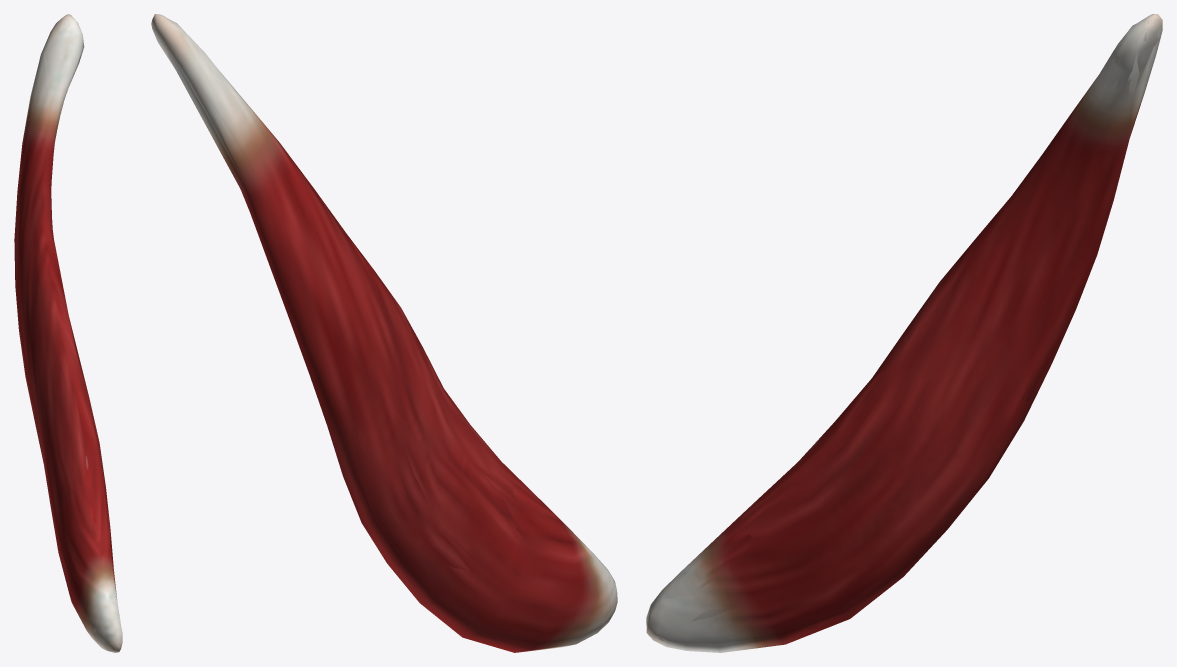
File: R Adductor.fbx
3 views of the same model, side by side, from view 1: azimuth 30°, elevation 25°; view 2: azimuth 150°, elevation 25°; view 3: azimuth 270°, elevation 25° (orthographic). The views are drawn at different scales.
Visible parts, largest first — view 1: R Adductor, R Adductor low, R Adductor high; view 2: R Adductor, R Adductor low, R Adductor high; view 3: R Adductor, R Adductor low, R Adductor high.
Part boxes in pixels (left/top/right/bottom): R Adductor: left=14, top=14, right=122, bottom=652; R Adductor low: left=22, top=15, right=120, bottom=649; R Adductor high: left=15, top=19, right=119, bottom=646; R Adductor: left=151, top=14, right=617, bottom=652; R Adductor low: left=155, top=14, right=617, bottom=651; R Adductor high: left=152, top=18, right=615, bottom=639; R Adductor: left=646, top=14, right=1162, bottom=652; R Adductor low: left=646, top=15, right=1160, bottom=652; R Adductor high: left=647, top=19, right=1156, bottom=646.
Bounding box in the file's own units: 2.18 × 7.27 × 4.71.
